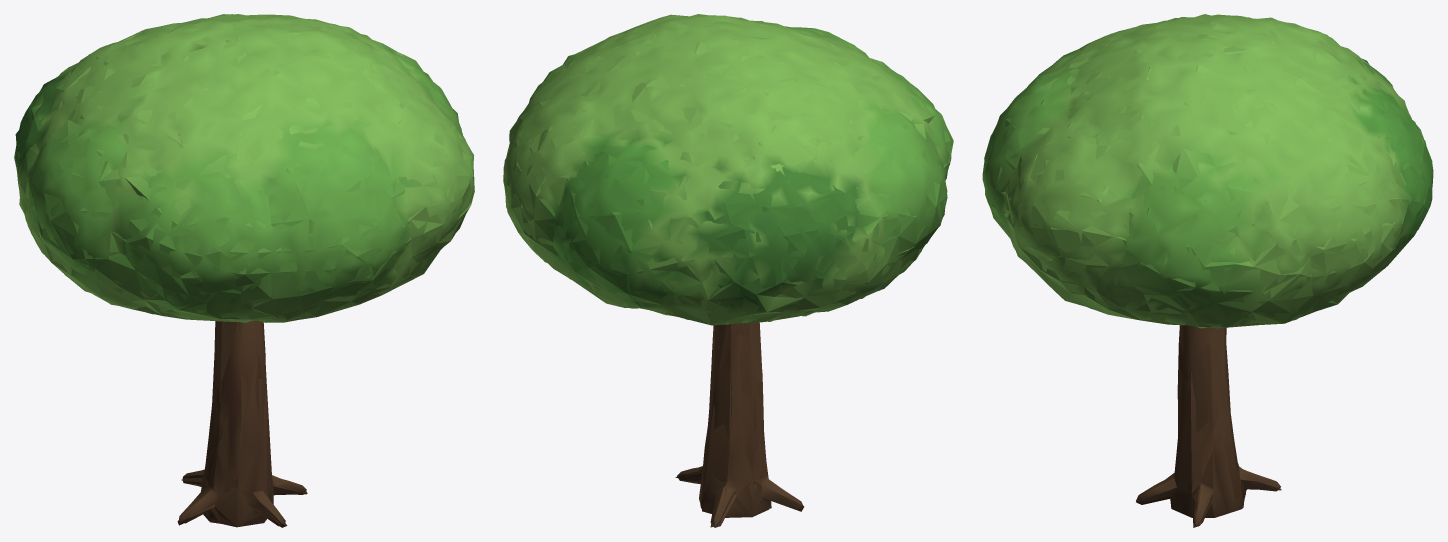
Rendered from broadleaf_mature_large_wide_dense.glb.
3 renders of one model, left to right at view 1: azimuth 30°, elevation 25°; view 2: azimuth 150°, elevation 25°; view 3: azimuth 270°, elevation 25°, orthographic.
Parts seen in each view (by area): view 1: broadleaf_mature_large_wide_dense_LOD1, broadleaf_mature_large_wide_dense_LOD2; view 2: broadleaf_mature_large_wide_dense_LOD1, broadleaf_mature_large_wide_dense_LOD2; view 3: broadleaf_mature_large_wide_dense_LOD1, broadleaf_mature_large_wide_dense_LOD2.
Boxes of the visible parts, <box> form: broadleaf_mature_large_wide_dense_LOD1: <box>14,14,474,526</box>; broadleaf_mature_large_wide_dense_LOD2: <box>16,14,473,527</box>; broadleaf_mature_large_wide_dense_LOD1: <box>503,14,952,527</box>; broadleaf_mature_large_wide_dense_LOD2: <box>503,15,953,527</box>; broadleaf_mature_large_wide_dense_LOD1: <box>982,14,1433,526</box>; broadleaf_mature_large_wide_dense_LOD2: <box>982,18,1432,527</box>.
Bounding box in the file's own units: 5.89 × 6.56 × 5.74.
